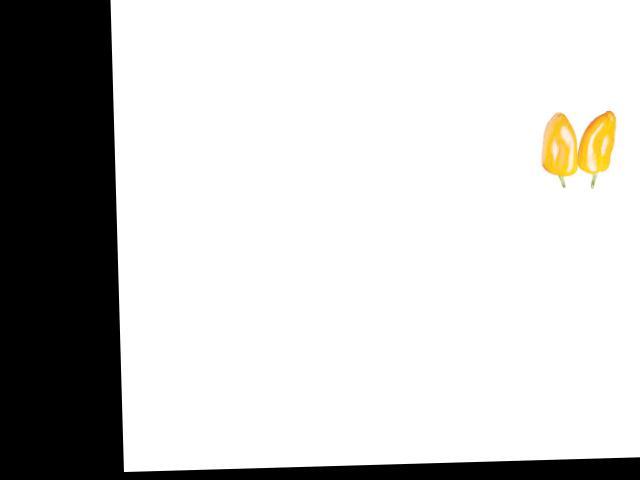bell_pepper: (531, 96, 580, 190)
